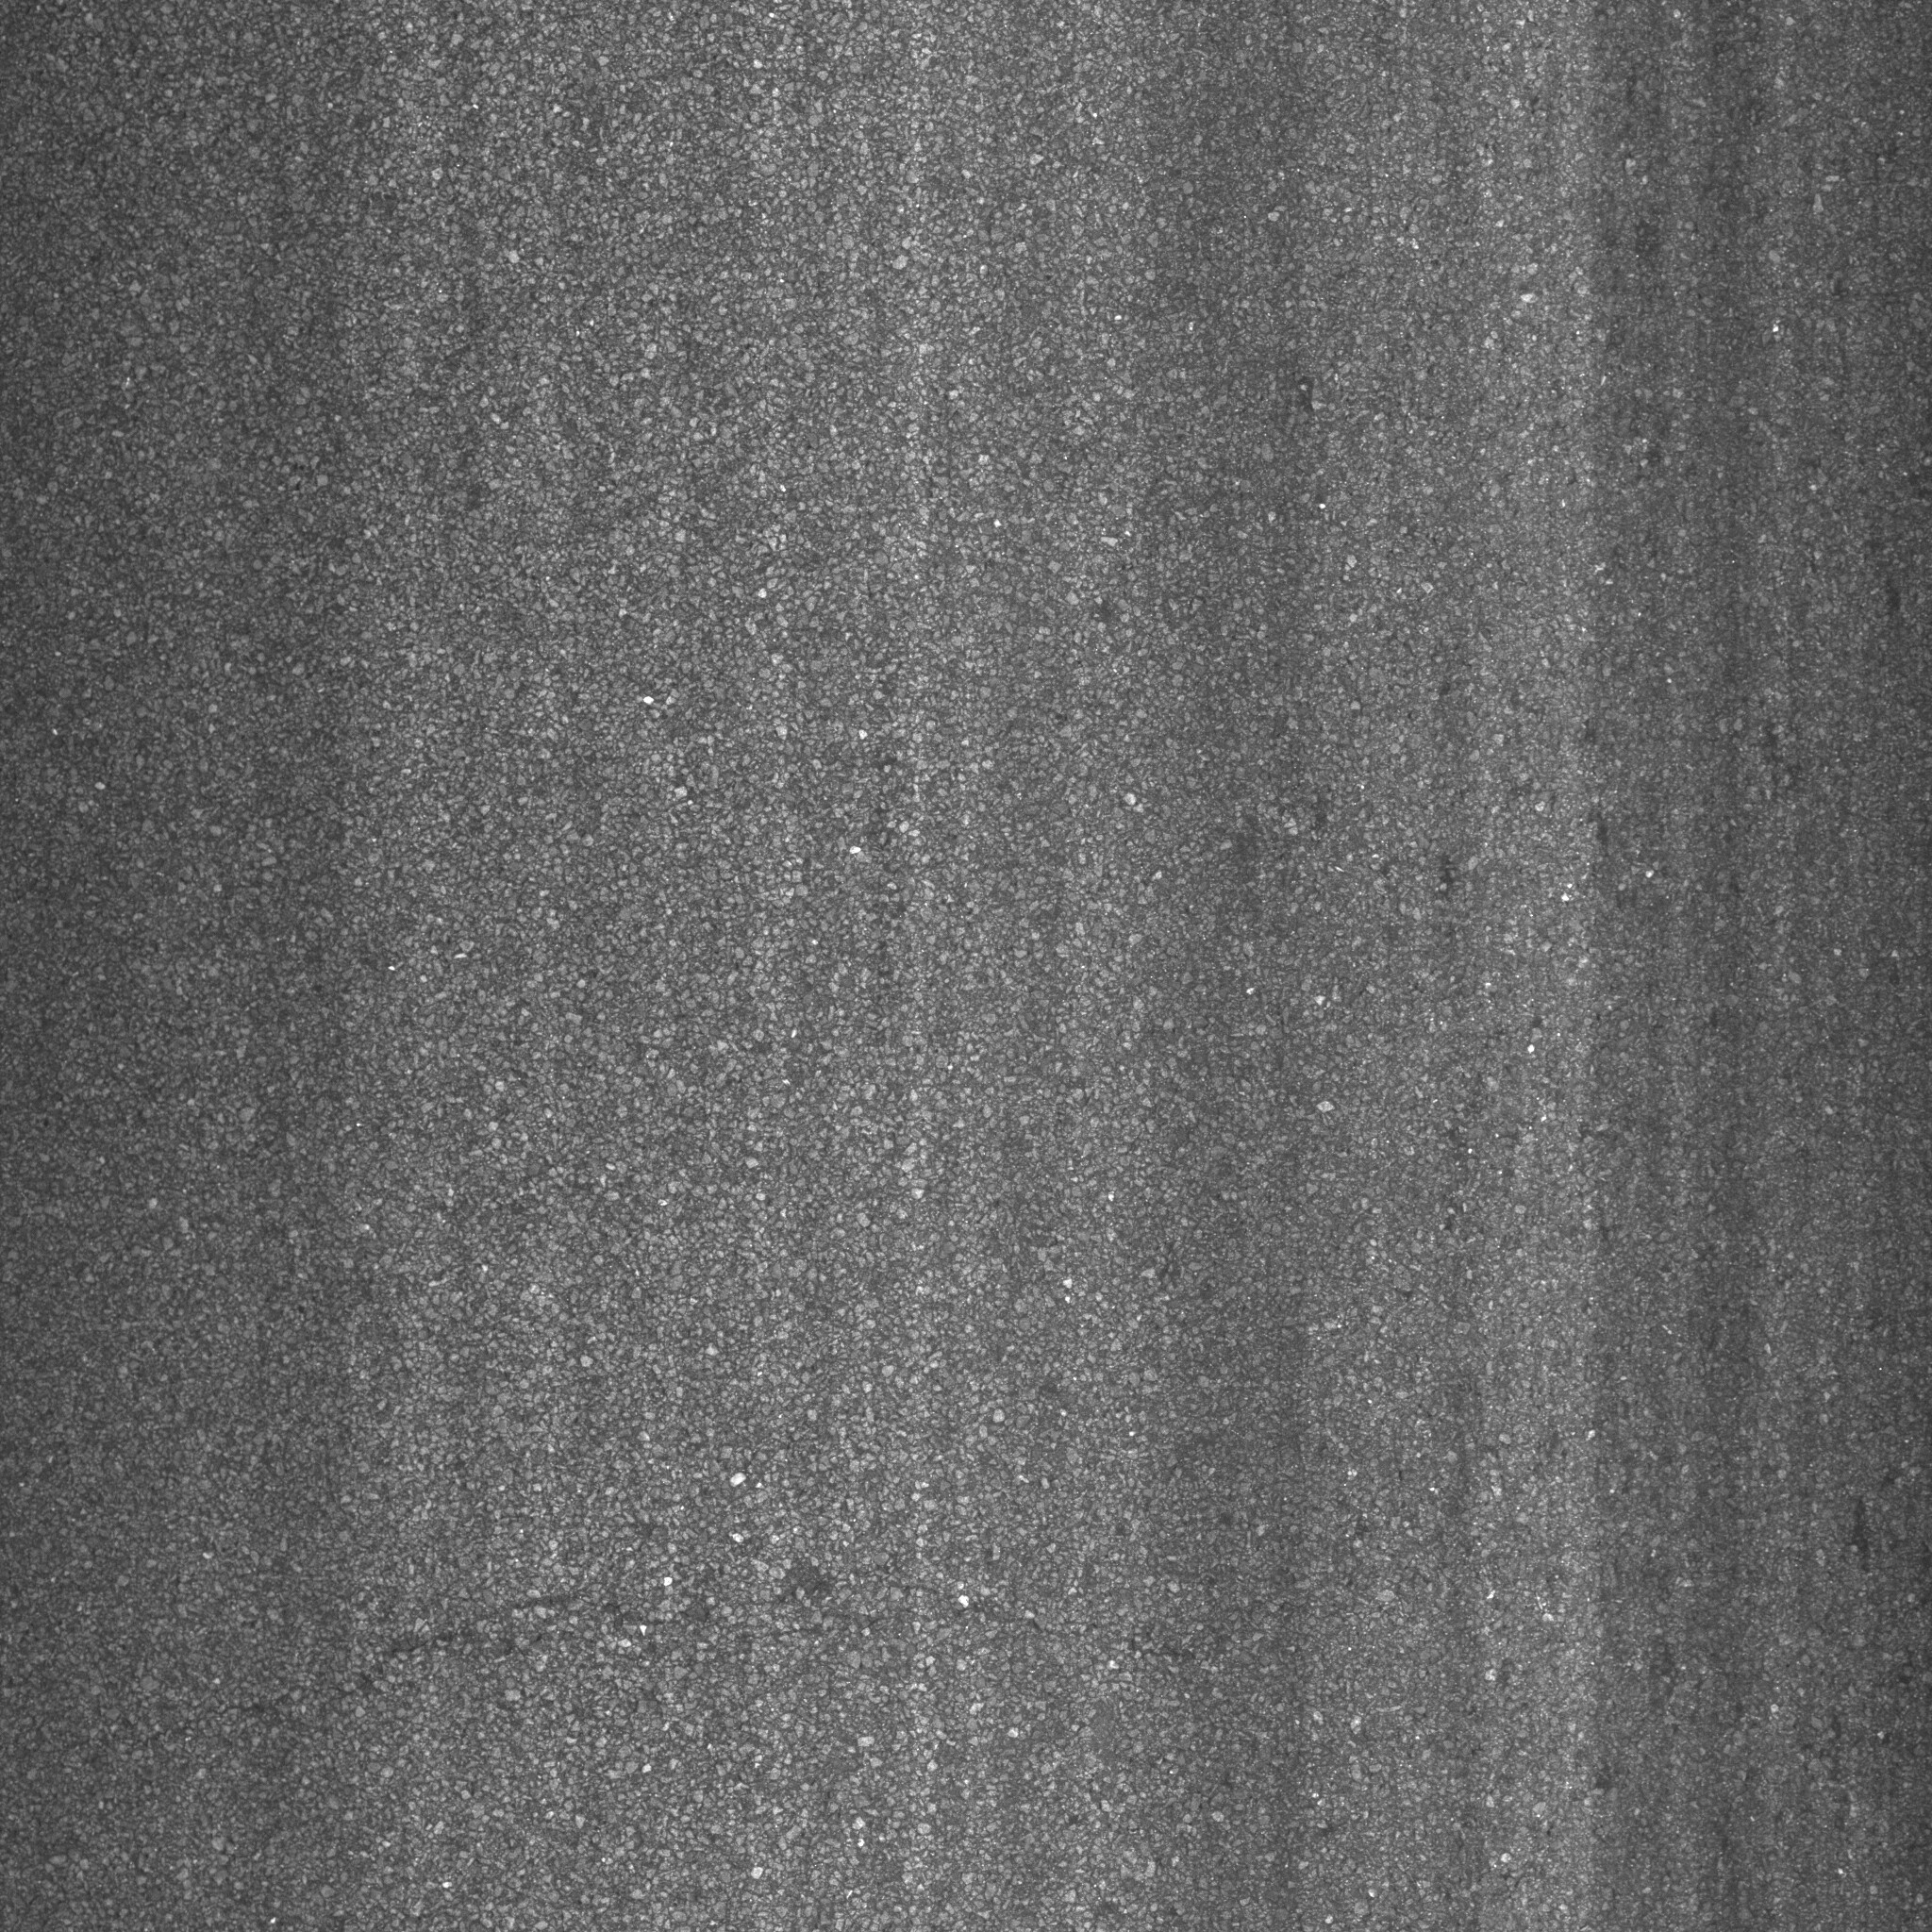transverse: (189, 1530, 1292, 1769)
